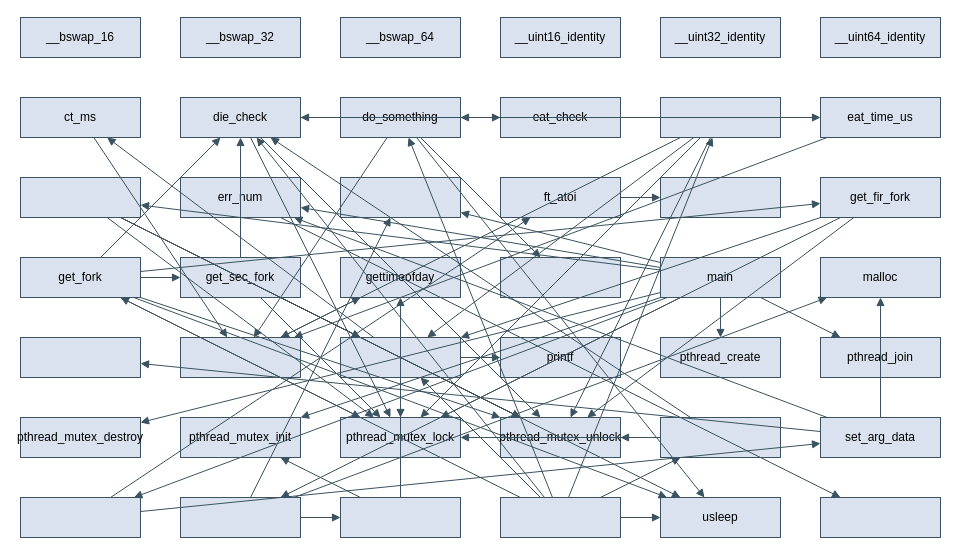
The diagram is 958 pixels wide and 555 high, and some of its shapes have lost their labels. The box of each missing label's shape, as (x1, y1, x2, y2) in pixels:
eat_ing: (660, 96, 780, 138)
end_func: (20, 176, 140, 218)
free: (340, 176, 460, 218)
ft_isdigit: (660, 176, 780, 218)
left_time: (500, 256, 620, 298)
memset: (20, 336, 140, 378)
now_time_us: (180, 336, 300, 378)
print_timestamp: (340, 336, 460, 378)
put_down_fork: (660, 416, 780, 458)
set_args: (20, 496, 140, 538)
set_philos: (180, 496, 300, 538)
set_pval: (340, 496, 460, 538)
starving: (500, 496, 620, 538)
write: (820, 496, 940, 538)
